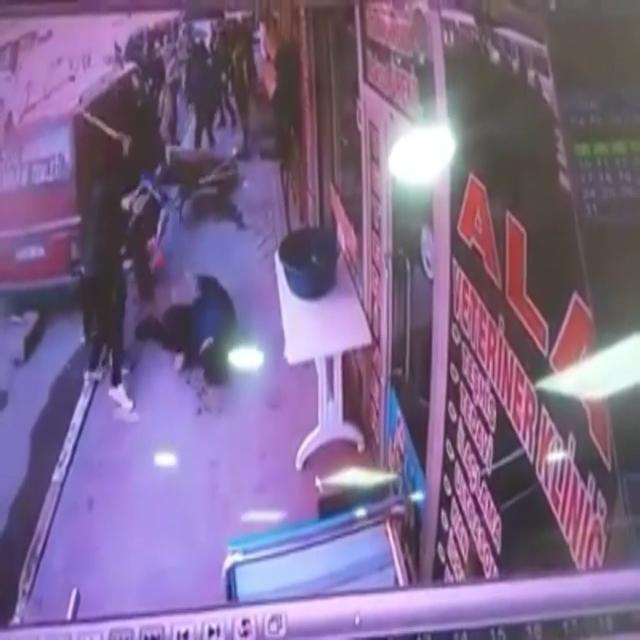fight: (84, 159, 240, 420)
